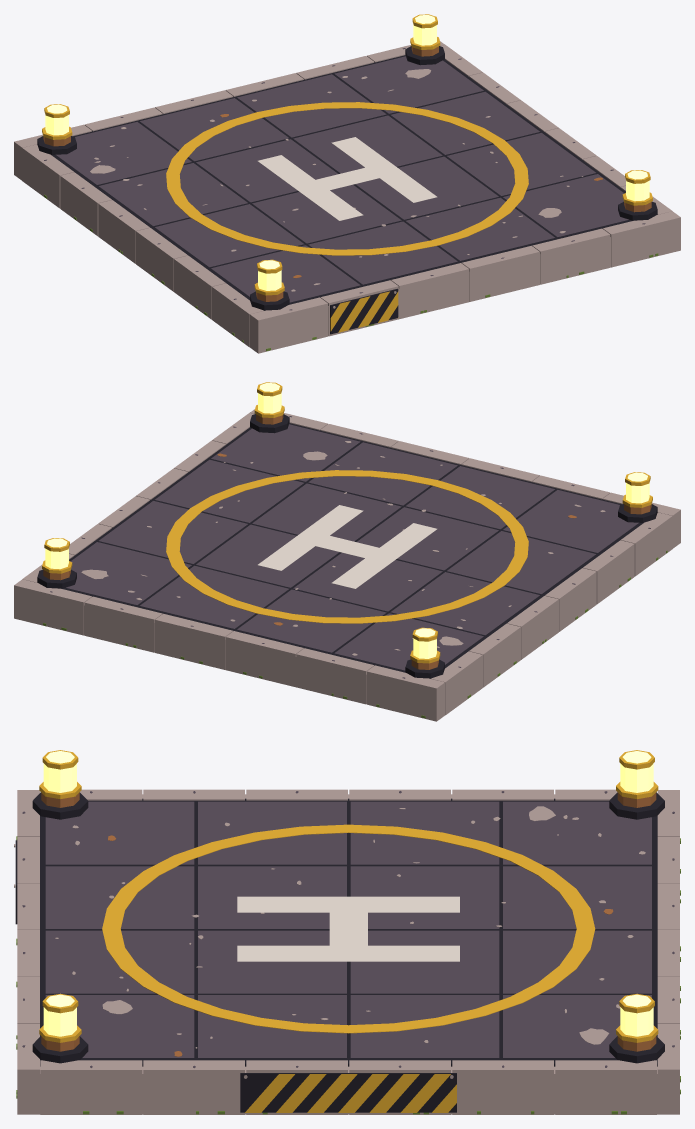
3 renders of one model, top to bottom at view 1: azimuth 30°, elevation 25°; view 2: azimuth 150°, elevation 25°; view 3: azimuth 270°, elevation 25°, orthographic. The views are drawn at different scales.
Parts seen in each view (by area): view 1: body_pal_asphalt, body_pal_sidewalk, body_pal_schoolBusYellow, body_pal_uiDark, body_pal_picketWhite, lamp_1_emi_windowGlow, lamp_0_emi_windowGlow, lamp_3_emi_windowGlow, lamp_2_emi_windowGlow; view 2: body_pal_asphalt, body_pal_sidewalk, body_pal_schoolBusYellow, body_pal_uiDark, body_pal_picketWhite, lamp_2_emi_windowGlow, lamp_3_emi_windowGlow, lamp_0_emi_windowGlow, lamp_1_emi_windowGlow; view 3: body_pal_asphalt, body_pal_sidewalk, body_pal_schoolBusYellow, body_pal_uiDark, body_pal_picketWhite, lamp_1_emi_windowGlow, lamp_3_emi_windowGlow, lamp_2_emi_windowGlow, lamp_0_emi_windowGlow, lamp_1_pal_uiDark, lamp_0_pal_uiDark, lamp_3_pal_uiDark (+5 smaller).
Part boxes in pixels (x1,y1,x2,y2): body_pal_asphalt: [44, 48, 645, 310]; body_pal_sidewalk: [14, 41, 680, 353]; body_pal_schoolBusYellow: [166, 102, 528, 332]; body_pal_uiDark: [51, 55, 633, 334]; body_pal_picketWhite: [258, 137, 437, 220]; lamp_1_emi_windowGlow: [626, 170, 649, 201]; lamp_0_emi_windowGlow: [258, 260, 281, 290]; lamp_3_emi_windowGlow: [45, 104, 68, 135]; lamp_2_emi_windowGlow: [413, 15, 436, 45]; body_pal_asphalt: [50, 416, 650, 678]; body_pal_sidewalk: [14, 409, 680, 721]; body_pal_schoolBusYellow: [166, 470, 528, 623]; body_pal_uiDark: [61, 423, 643, 678]; body_pal_picketWhite: [257, 505, 436, 588]; lamp_2_emi_windowGlow: [45, 538, 68, 569]; lamp_3_emi_windowGlow: [413, 628, 436, 658]; lamp_0_emi_windowGlow: [626, 472, 649, 503]; lamp_1_emi_windowGlow: [258, 383, 281, 413]; body_pal_asphalt: [22, 791, 674, 1067]; body_pal_sidewalk: [14, 789, 679, 1114]; body_pal_schoolBusYellow: [102, 824, 595, 1112]; body_pal_uiDark: [15, 798, 657, 1112]; body_pal_picketWhite: [237, 896, 459, 961]; lamp_1_emi_windowGlow: [43, 994, 76, 1036]; lamp_3_emi_windowGlow: [620, 751, 653, 792]; lamp_2_emi_windowGlow: [620, 994, 653, 1036]; lamp_0_emi_windowGlow: [43, 751, 76, 792]; lamp_1_pal_uiDark: [32, 1036, 88, 1063]; lamp_0_pal_uiDark: [32, 792, 88, 819]; lamp_3_pal_uiDark: [609, 792, 664, 819].
Size of the model in its own units: 10.06 by 1.6 by 10.06.
